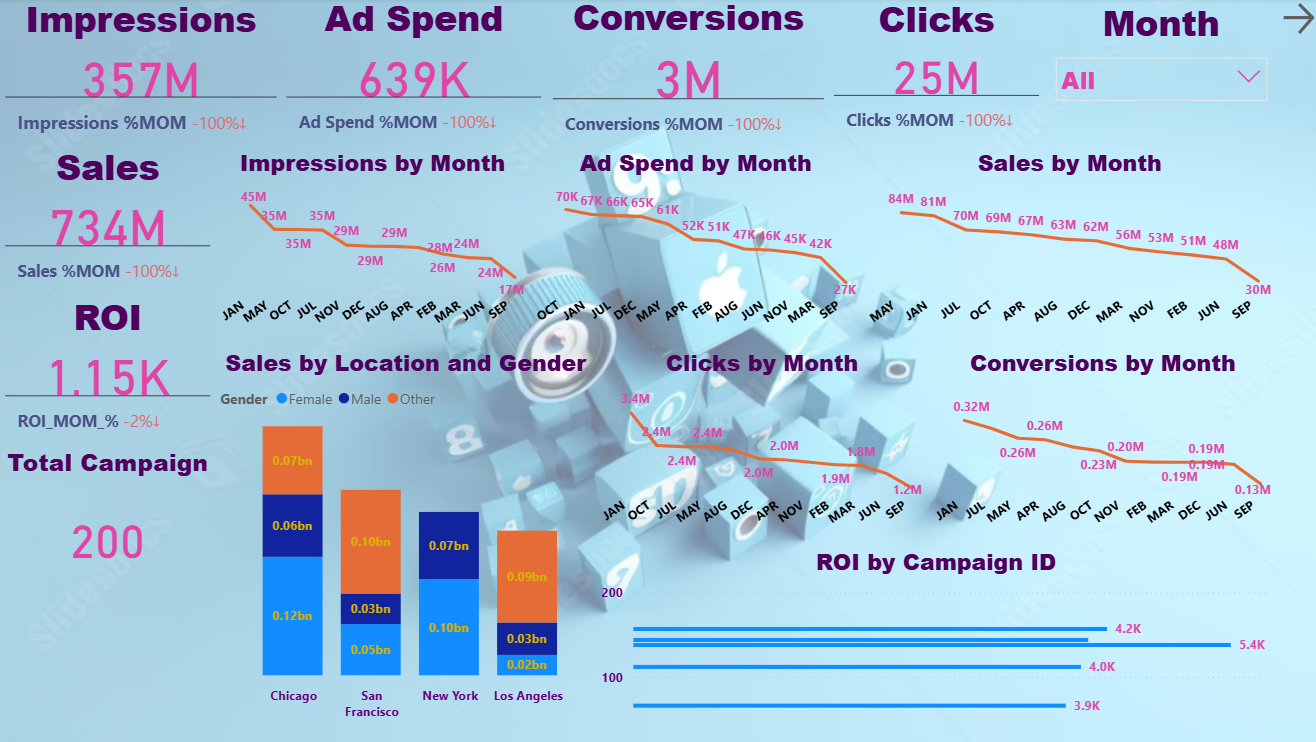

The dashboard page shown, as its layout file describes it:
{"tool":"powerbi","page":{"name":"Marketing","canvas":[1280,720],"ordinal":0},"visuals":[{"type":"slicer","title":"Month ","fields":{"Values":["Dim_CampaignDates.MONTH NAME"]},"box":[1008,0,224,144],"z":0},{"type":"cardVisual","fields":{"Data":["Sum(Marketing_Campaign.Impressions)"]},"box":[0,0,272,144],"z":1000},{"type":"cardVisual","fields":{"Data":["Sum(Marketing_Campaign.Sales)"]},"box":[0,144,208,144],"z":2000},{"type":"cardVisual","fields":{"Data":["Marketing_Campaign.ROI"]},"box":[0,288,208,144],"z":3000},{"type":"cardVisual","fields":{"Data":["Sum(Marketing_Campaign.Conversions)"]},"box":[528,0,272,144],"z":4000},{"type":"cardVisual","fields":{"Data":["Sum(Marketing_Campaign.Clicks)"]},"box":[800,0,208,144],"z":5000},{"type":"cardVisual","fields":{"Data":["Sum(Marketing_Campaign.Ad Spend)"]},"box":[272,0,256,144],"z":6000},{"type":"lineChart","title":"Impressions by Month ","fields":{"Category":["Dim_CampaignDates.MONTH NAME"],"Y":["Sum(Marketing_Campaign.Impressions)"]},"box":[208,144,304,192],"z":7000},{"type":"lineChart","title":" Sales by Month","fields":{"Category":["Dim_CampaignDates.MONTH NAME"],"Y":["Sum(Marketing_Campaign.Sales)"]},"box":[832,144,400,192],"z":8000},{"type":"lineChart","title":" Clicks by Month","fields":{"Category":["Dim_CampaignDates.MONTH NAME"],"Y":["Sum(Marketing_Campaign.Clicks)"]},"box":[576,336,320,192],"z":9000},{"type":"lineChart","title":"Ad Spend by Month","fields":{"Category":["Dim_CampaignDates.MONTH NAME"],"Y":["Sum(Marketing_Campaign.Ad Spend)"]},"box":[512,144,320,192],"z":10000},{"type":"lineChart","title":"Conversions by Month","fields":{"Category":["Dim_CampaignDates.MONTH NAME"],"Y":["Sum(Marketing_Campaign.Conversions)"]},"box":[896,336,336,192],"z":11000},{"type":"card","title":"Total Campaign","fields":{"Values":["CountNonNull(Marketing_Campaign.Campaign ID)"]},"box":[0,432,208,144],"z":12000},{"type":"clusteredBarChart","fields":{"Category":["Marketing_Campaign.Campaign ID"],"Y":["Marketing_Campaign.ROI"]},"box":[576,528,656,176],"z":13000},{"type":"columnChart","title":"Sales by Location and Gender","fields":{"Category":["Customers.Location"],"Y":["Sum(Marketing_Campaign.Sales)"],"Series":["Customers.Gender"]},"box":[208,336,368,368],"z":14000},{"type":"actionButton","box":[1233,0,47.1,39.8],"z":15000}]}

Visuals, with their boxes in screenshot pixels (x1, y1, x2, y2), scaled from the page's 1280x720 canvas onto the 1316x742 screenshot:
"Month " slicer: (1036, 0, 1267, 148)
cardVisual - Sum(Marketing_Campaign.Impressions): (0, 0, 280, 148)
cardVisual - Sum(Marketing_Campaign.Sales): (0, 148, 214, 297)
cardVisual - Marketing_Campaign.ROI: (0, 297, 214, 445)
cardVisual - Sum(Marketing_Campaign.Conversions): (543, 0, 822, 148)
cardVisual - Sum(Marketing_Campaign.Clicks): (822, 0, 1036, 148)
cardVisual - Sum(Marketing_Campaign.Ad Spend): (280, 0, 543, 148)
"Impressions by Month " lineChart: (214, 148, 526, 346)
" Sales by Month" lineChart: (855, 148, 1267, 346)
" Clicks by Month" lineChart: (592, 346, 921, 544)
"Ad Spend by Month" lineChart: (526, 148, 855, 346)
"Conversions by Month" lineChart: (921, 346, 1267, 544)
"Total Campaign" card: (0, 445, 214, 594)
clusteredBarChart - Marketing_Campaign.Campaign ID x Marketing_Campaign.ROI: (592, 544, 1267, 726)
"Sales by Location and Gender" columnChart: (214, 346, 592, 726)
actionButton: (1268, 0, 1315, 41)
